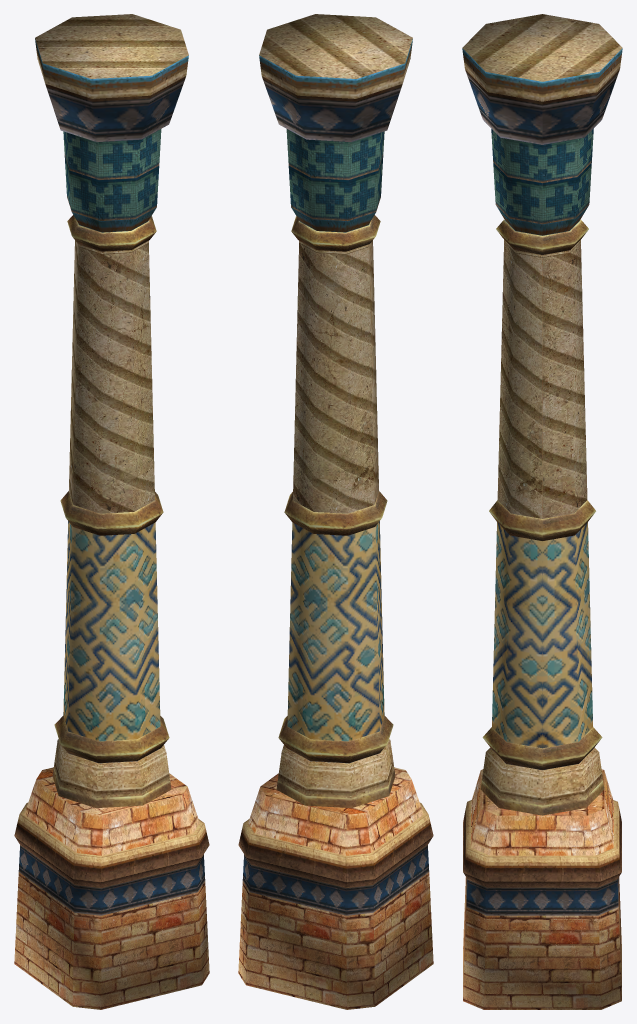
Rendered from OBJCircularPillar.gltf.
3 views of the same model, side by side, from view 1: azimuth 30°, elevation 25°; view 2: azimuth 150°, elevation 25°; view 3: azimuth 270°, elevation 25° (orthographic).
Parts seen in each view (by area): view 1: CircularPillar; view 2: CircularPillar; view 3: CircularPillar.
Boxes of the visible parts, x1,y1,x2,y2 form: CircularPillar: [14, 14, 209, 1009]; CircularPillar: [238, 14, 433, 1009]; CircularPillar: [462, 14, 622, 1009].
Size of the model in its own units: 1.57 by 10 by 1.57.
Materials: 2 (2 with a texture image).
